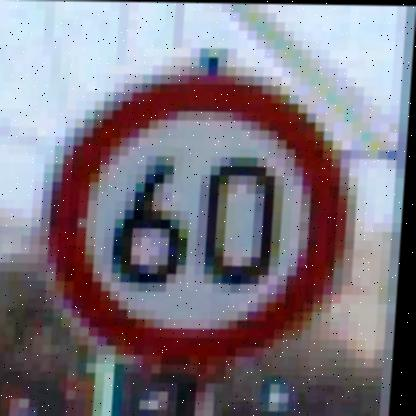Speed Limit -60-: (32, 65, 368, 370)
